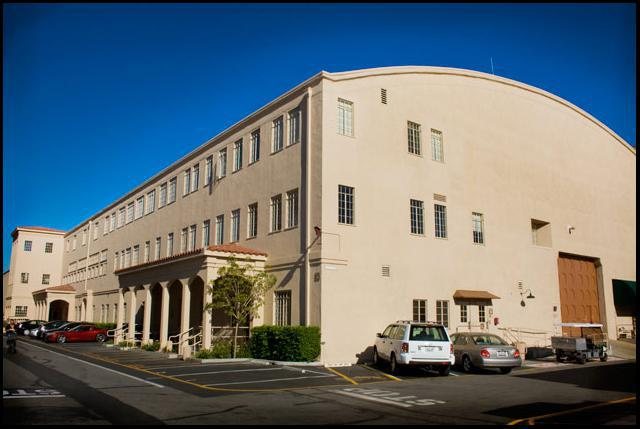affected: (7, 46, 640, 373)
